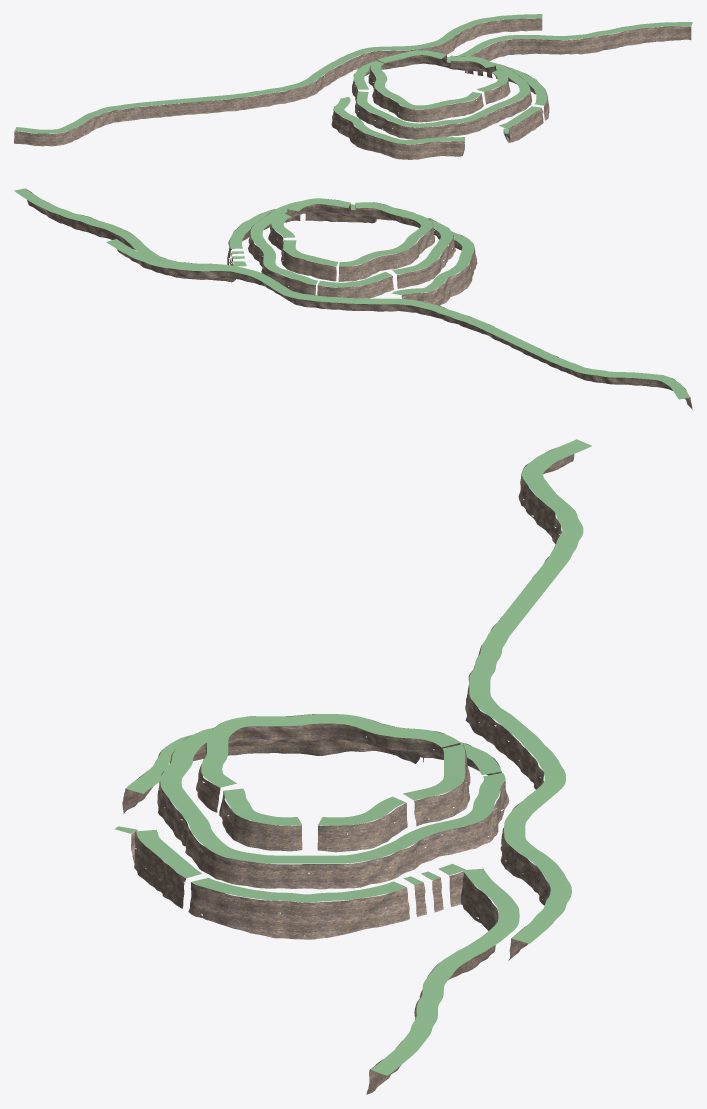
Rendered from CliffWall_plateau_north.glb.
3 renders of one model, top to bottom at view 1: azimuth 30°, elevation 25°; view 2: azimuth 150°, elevation 25°; view 3: azimuth 270°, elevation 25°, orthographic. The views are drawn at different scales.
Visible parts, largest first — view 1: CliffWall_plateau_north-rock6, CliffWall_plateau_north-rock8, CliffWall_plateau_north-lip6, CliffWall_plateau_north-rock4, CliffWall_plateau_north-rock7, CliffWall_plateau_north-rock3, CliffWall_plateau_north-lip4, CliffWall_plateau_north-lip8, CliffWall_plateau_north-lip3, CliffWall_plateau_north-lip7, CliffWall_plateau_north-rock13, CliffWall_plateau_north-rock0 (+8 smaller); view 2: CliffWall_plateau_north-lip6, CliffWall_plateau_north-rock6, CliffWall_plateau_north-rock4, CliffWall_plateau_north-rock3, CliffWall_plateau_north-lip4, CliffWall_plateau_north-lip8, CliffWall_plateau_north-lip3, CliffWall_plateau_north-rock7, CliffWall_plateau_north-rock8, CliffWall_plateau_north-rock5, CliffWall_plateau_north-lip7, CliffWall_plateau_north-rock0 (+6 smaller); view 3: CliffWall_plateau_north-lip6, CliffWall_plateau_north-rock4, CliffWall_plateau_north-rock12, CliffWall_plateau_north-lip4, CliffWall_plateau_north-rock6, CliffWall_plateau_north-lip8, CliffWall_plateau_north-lip3, CliffWall_plateau_north-rock3, CliffWall_plateau_north-rock7, CliffWall_plateau_north-rock1, CliffWall_plateau_north-rock2, CliffWall_plateau_north-rock8 (+6 smaller).
Boxes of the visible parts, x1,y1,x2,y2 form: CliffWall_plateau_north-rock6: (14, 18, 542, 146); CliffWall_plateau_north-rock8: (465, 26, 691, 73); CliffWall_plateau_north-lip6: (14, 14, 542, 133); CliffWall_plateau_north-rock4: (355, 61, 532, 139); CliffWall_plateau_north-rock7: (331, 106, 464, 159); CliffWall_plateau_north-rock3: (368, 66, 483, 122); CliffWall_plateau_north-lip4: (356, 57, 530, 127); CliffWall_plateau_north-lip8: (457, 22, 692, 56); CliffWall_plateau_north-lip3: (370, 61, 481, 109); CliffWall_plateau_north-lip7: (333, 97, 464, 144); CliffWall_plateau_north-rock13: (506, 108, 543, 142); CliffWall_plateau_north-rock0: (376, 50, 447, 69); CliffWall_plateau_north-lip6: (106, 239, 690, 399); CliffWall_plateau_north-rock6: (117, 241, 692, 409); CliffWall_plateau_north-rock4: (248, 210, 455, 294); CliffWall_plateau_north-rock3: (338, 202, 434, 281); CliffWall_plateau_north-lip4: (250, 201, 452, 285); CliffWall_plateau_north-lip8: (14, 188, 234, 265); CliffWall_plateau_north-lip3: (339, 202, 433, 266); CliffWall_plateau_north-rock7: (401, 233, 477, 305); CliffWall_plateau_north-rock8: (26, 189, 235, 281); CliffWall_plateau_north-rock5: (317, 276, 393, 298); CliffWall_plateau_north-lip7: (391, 218, 474, 295); CliffWall_plateau_north-rock0: (281, 241, 336, 281); CliffWall_plateau_north-lip6: (469, 439, 591, 943); CliffWall_plateau_north-rock4: (157, 729, 509, 889); CliffWall_plateau_north-rock12: (188, 882, 409, 939); CliffWall_plateau_north-lip4: (160, 727, 505, 863); CliffWall_plateau_north-rock6: (465, 447, 574, 960); CliffWall_plateau_north-lip8: (370, 868, 519, 1075); CliffWall_plateau_north-lip3: (201, 714, 460, 787); CliffWall_plateau_north-rock3: (196, 714, 460, 812); CliffWall_plateau_north-rock7: (122, 726, 423, 813); CliffWall_plateau_north-rock1: (317, 803, 407, 852); CliffWall_plateau_north-rock2: (219, 791, 302, 851); CliffWall_plateau_north-rock8: (366, 873, 498, 1094).
Bounding box in the file's own units: 2533 × 145 × 829.
Materials: 4 (1 with a texture image).
